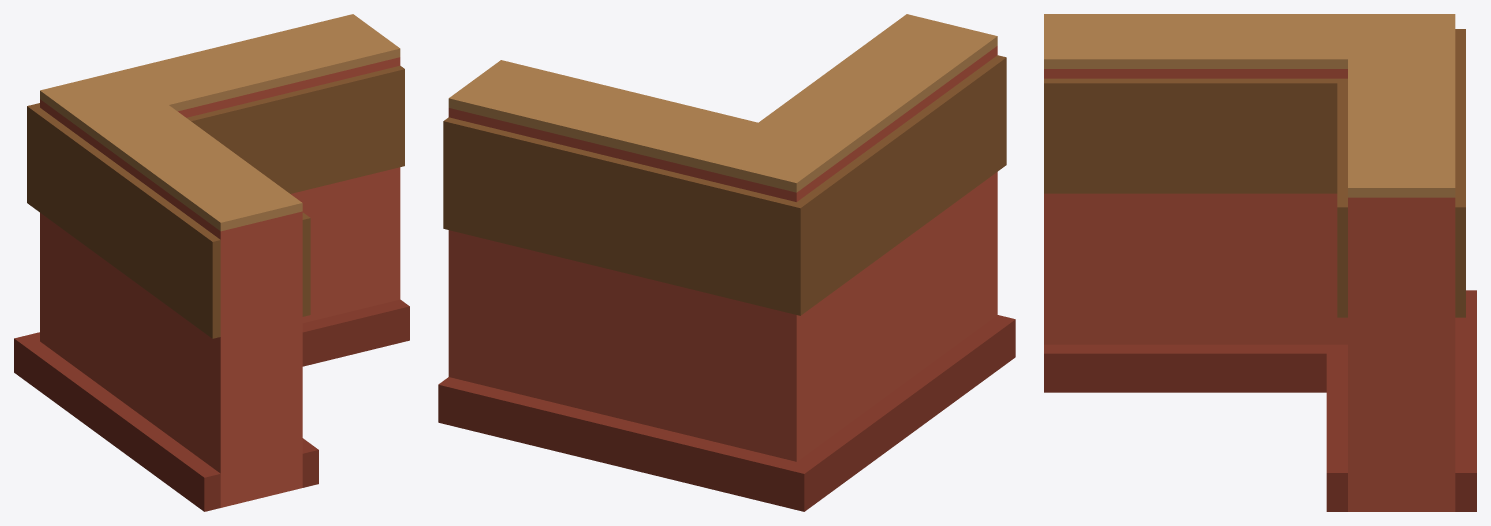
Rendered from partition-elbow.glb.
The picture shows the model from 3 angles, left to right: view 1: azimuth 30°, elevation 25°; view 2: azimuth 150°, elevation 25°; view 3: azimuth 270°, elevation 25°; orthographic projection. The views are drawn at different scales.
Visible parts, largest first — view 1: partition-elbow; view 2: partition-elbow; view 3: partition-elbow.
Part boxes in pixels (x1,y1,x2,y2): partition-elbow: [14, 14, 409, 511]; partition-elbow: [438, 14, 1015, 511]; partition-elbow: [1044, 14, 1476, 511].
Bounding box in the file's own units: 0.605 × 0.5 × 0.605.
1 material, 1 textured.
